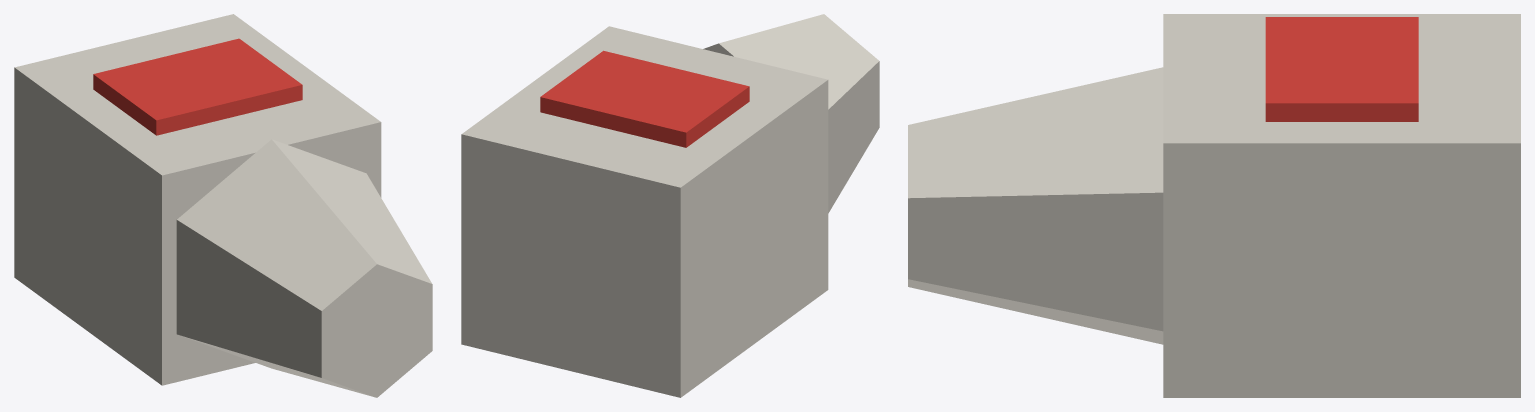
File: robot_fingertip.glb
3 renders of one model, left to right at view 1: azimuth 30°, elevation 25°; view 2: azimuth 150°, elevation 25°; view 3: azimuth 270°, elevation 25°, orthographic. The views are drawn at different scales.
Visible parts, largest first — view 1: robot_fingertip_armor, robot_fingertip_red; view 2: robot_fingertip_armor, robot_fingertip_red; view 3: robot_fingertip_armor, robot_fingertip_red.
Part boxes in pixels (x1=…): robot_fingertip_armor: x1=14, y1=14, x2=432, y2=397; robot_fingertip_red: x1=93, y1=38, x2=302, y2=135; robot_fingertip_armor: x1=461, y1=14, x2=879, y2=397; robot_fingertip_red: x1=540, y1=50, x2=749, y2=147; robot_fingertip_armor: x1=908, y1=14, x2=1520, y2=397; robot_fingertip_red: x1=1265, y1=17, x2=1418, y2=121.
Size of the model in its own units: 1.2 by 1.23 by 2.4.
